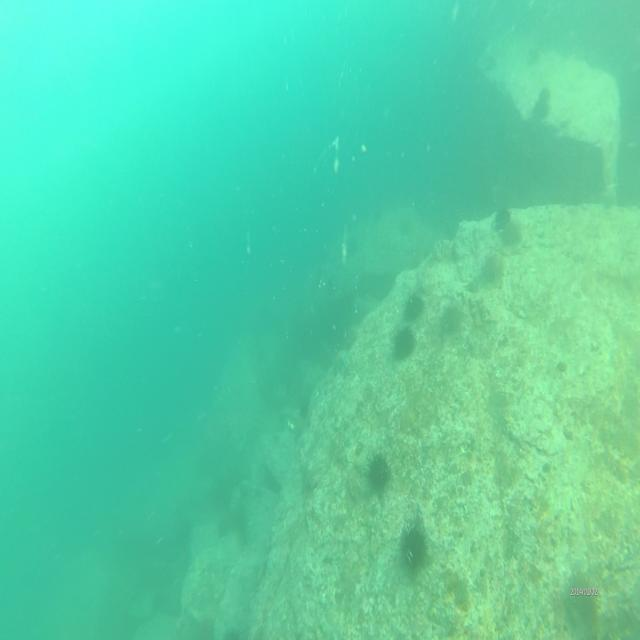echinus: (562, 564, 602, 636), (400, 517, 430, 580), (367, 448, 394, 497), (394, 320, 418, 366), (440, 298, 464, 336), (404, 287, 426, 326), (500, 219, 523, 252), (534, 81, 552, 118), (494, 201, 514, 228)
